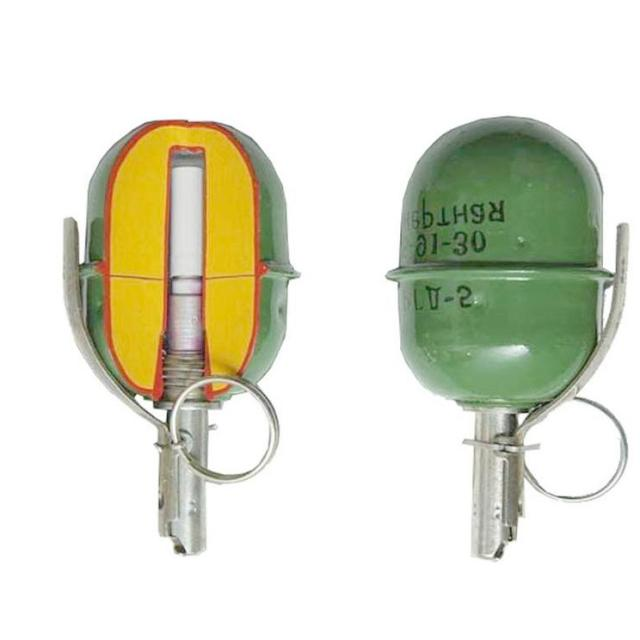grenade: (386, 115, 631, 561), (63, 121, 305, 555)
